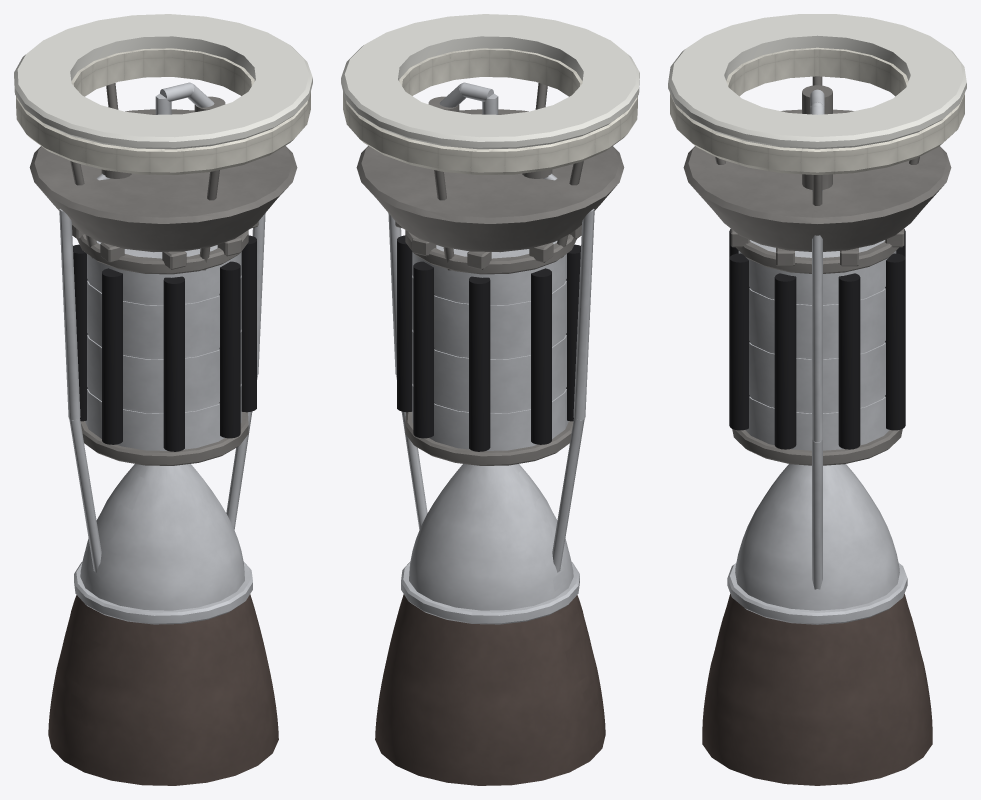
File: ax_prop_15_ntr.glb
The picture shows the model from 3 angles, left to right: view 1: azimuth 30°, elevation 25°; view 2: azimuth 150°, elevation 25°; view 3: azimuth 270°, elevation 25°; orthographic projection.
Parts seen in each view (by area): view 1: nozzle_extension, mount_ring, regen_nozzle, reactor_vessel, shadow_shield, control_drum_housings, thermal_blanket_ring, plumbing, vessel_rings, joint_flange, drum_actuators, thrust_struts; view 2: nozzle_extension, mount_ring, regen_nozzle, reactor_vessel, shadow_shield, control_drum_housings, thermal_blanket_ring, plumbing, vessel_rings, joint_flange, drum_actuators, thrust_struts; view 3: nozzle_extension, mount_ring, regen_nozzle, shadow_shield, reactor_vessel, control_drum_housings, thermal_blanket_ring, vessel_rings, plumbing, joint_flange, drum_actuators, turbopumps (+1 smaller).
Boxes of the visible parts, <box> form: nozzle_extension: <box>48,594,278,785</box>; mount_ring: <box>14,14,312,149</box>; regen_nozzle: <box>80,464,244,610</box>; reactor_vessel: <box>85,241,241,450</box>; shadow_shield: <box>29,109,297,252</box>; control_drum_housings: <box>73,235,256,451</box>; thermal_blanket_ring: <box>16,48,310,174</box>; plumbing: <box>59,82,265,572</box>; vessel_rings: <box>77,230,248,465</box>; joint_flange: <box>74,561,252,624</box>; drum_actuators: <box>72,221,258,269</box>; thrust_struts: <box>70,83,219,270</box>; nozzle_extension: <box>375,594,605,785</box>; mount_ring: <box>341,14,639,149</box>; regen_nozzle: <box>409,464,573,610</box>; reactor_vessel: <box>412,241,568,450</box>; shadow_shield: <box>356,109,624,252</box>; control_drum_housings: <box>397,235,580,451</box>; thermal_blanket_ring: <box>343,48,637,174</box>; plumbing: <box>388,82,594,572</box>; vessel_rings: <box>405,230,576,465</box>; joint_flange: <box>401,561,579,624</box>; drum_actuators: <box>395,221,581,269</box>; thrust_struts: <box>434,83,583,270</box>; nozzle_extension: <box>702,594,932,785</box>; mount_ring: <box>668,14,966,149</box>; regen_nozzle: <box>735,464,899,610</box>; shadow_shield: <box>683,109,951,251</box>; reactor_vessel: <box>738,240,896,450</box>; control_drum_housings: <box>729,229,905,449</box>; thermal_blanket_ring: <box>670,47,964,174</box>; vessel_rings: <box>732,241,902,465</box>; plumbing: <box>810,89,824,589</box>; joint_flange: <box>727,563,907,624</box>; drum_actuators: <box>730,228,904,266</box>; turbopumps: <box>802,85,832,189</box>.
Bounding box in the file's own units: 2.5 × 6.11 × 2.5.
6 materials, 4 textured.
